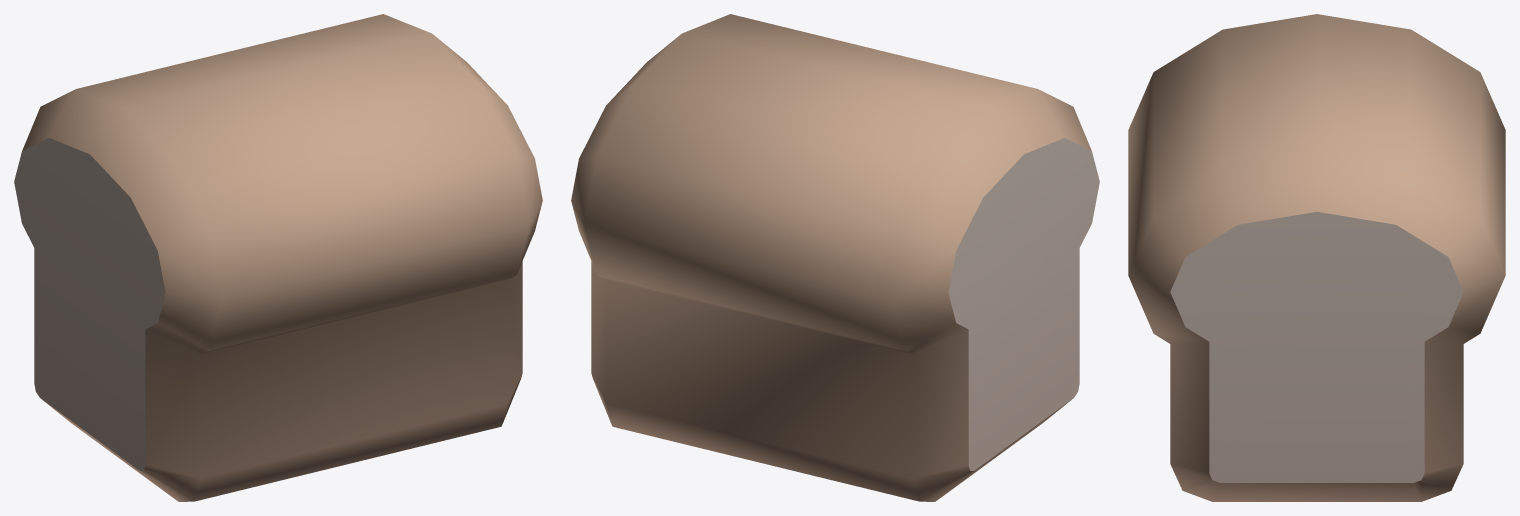
File: food-bread-loaf.glb
3 renders of one model, left to right at view 1: azimuth 30°, elevation 25°; view 2: azimuth 150°, elevation 25°; view 3: azimuth 270°, elevation 25°, orthographic. The views are drawn at different scales.
Visible parts, largest first — view 1: food-bread-loaf; view 2: food-bread-loaf; view 3: food-bread-loaf.
Part boxes in pixels (x1,y1,x2,y2): food-bread-loaf: [14, 14, 542, 501]; food-bread-loaf: [571, 14, 1099, 501]; food-bread-loaf: [1128, 14, 1505, 501].
Bounding box in the file's own units: 0.2456 × 0.2202 × 0.2198.
